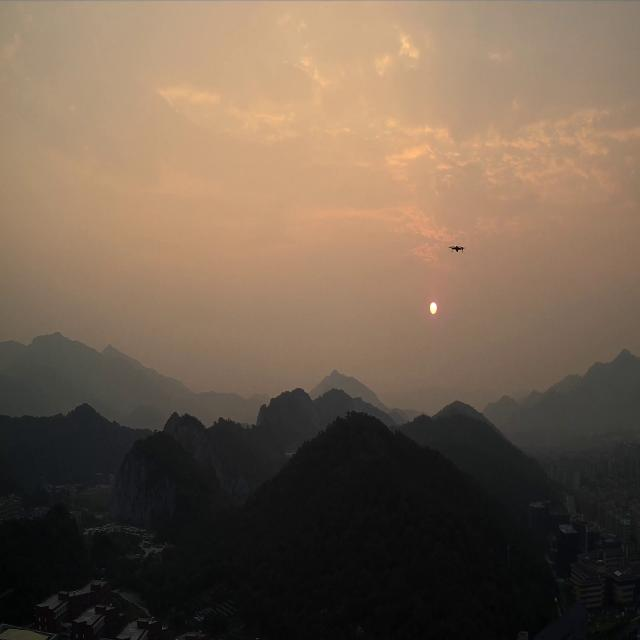UAV: (448, 244, 466, 253)
